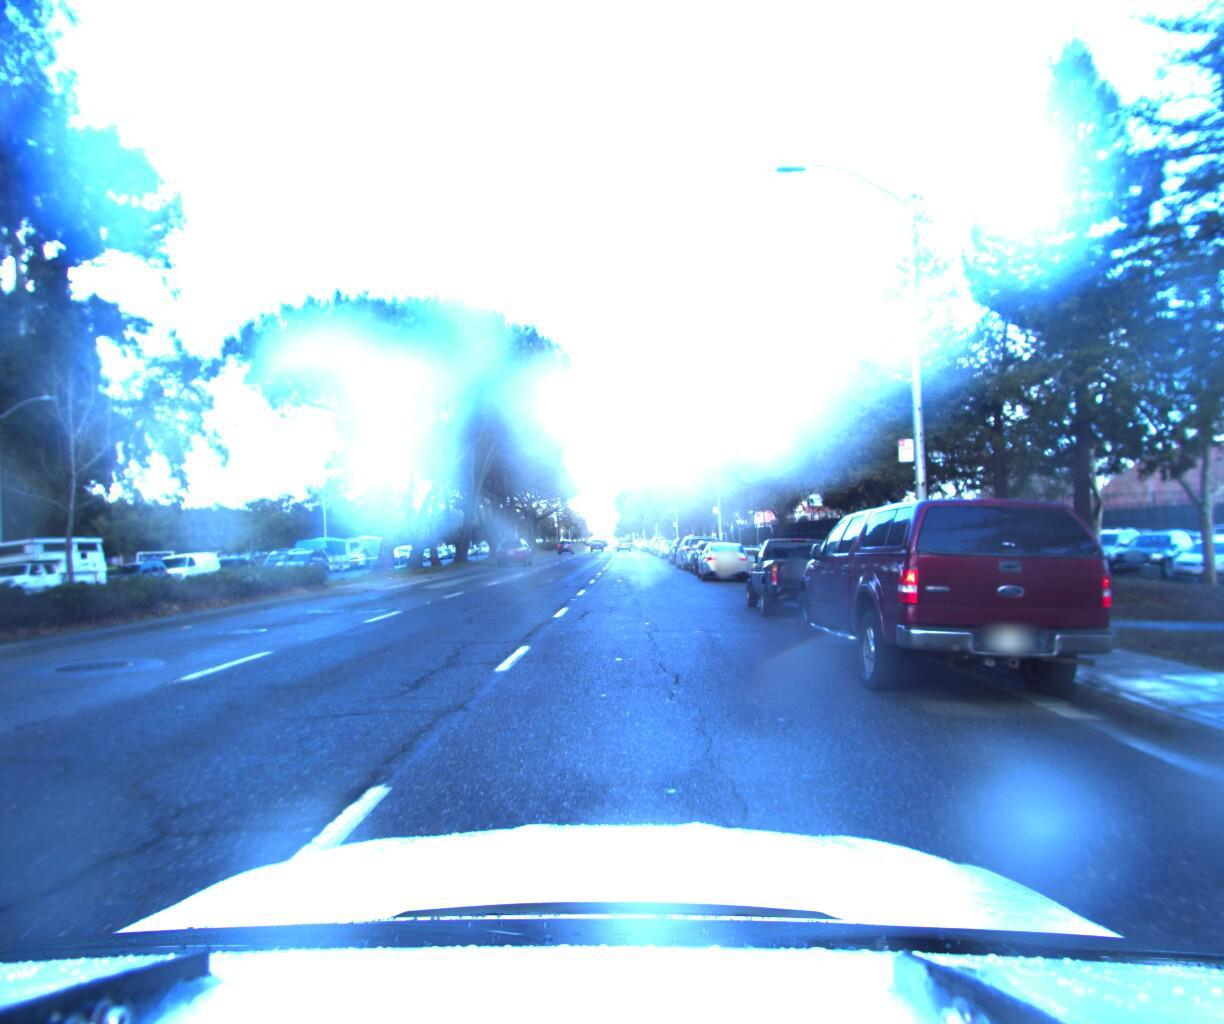car: (792, 483, 1146, 710), (739, 532, 866, 622), (96, 561, 180, 599), (150, 553, 228, 588), (693, 542, 755, 585), (683, 537, 732, 573), (263, 549, 315, 581), (671, 536, 714, 567), (495, 538, 536, 569), (663, 539, 699, 565), (653, 539, 679, 559)
other_vehicle: (291, 538, 356, 576), (334, 537, 392, 573)
